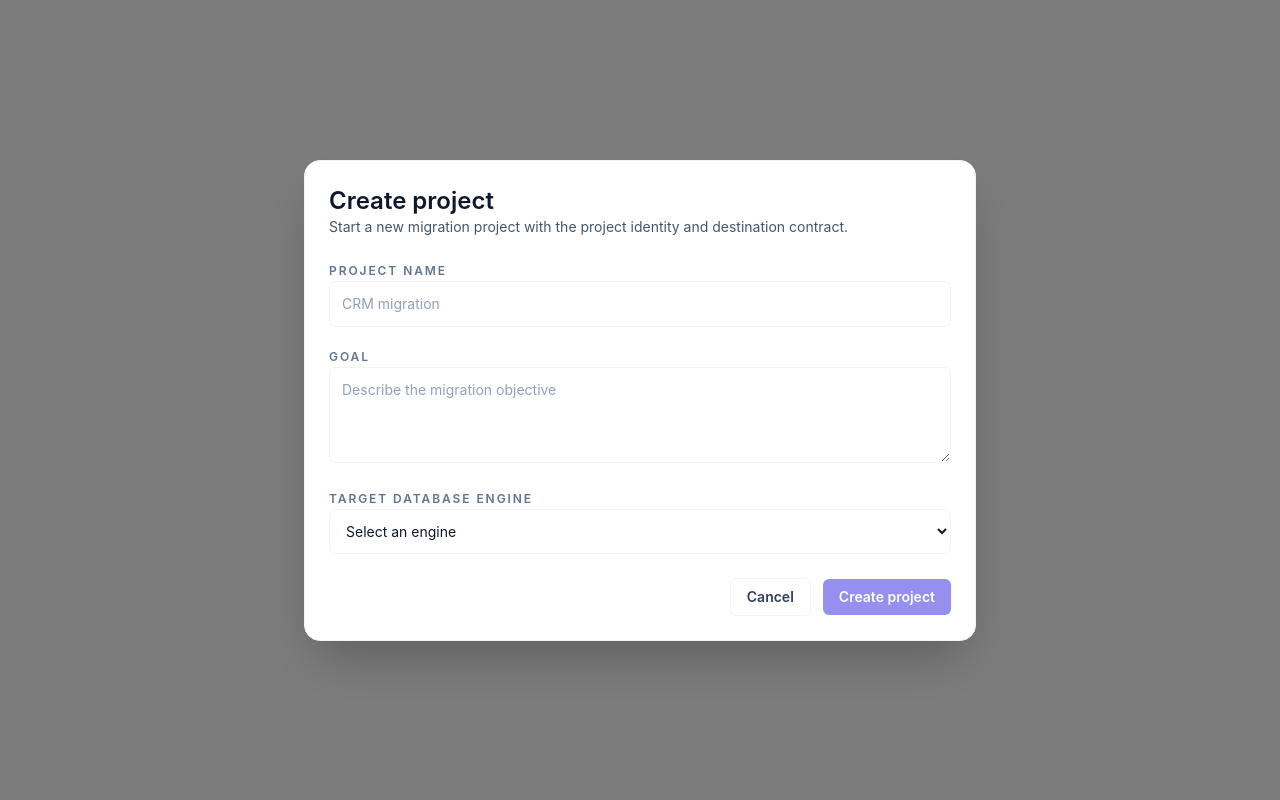
Test: CreateProjectDialog › renders API failures inline
Type "New Project" into the field labelled "Project name" at x=640, y=304, box [329,280,951,326]
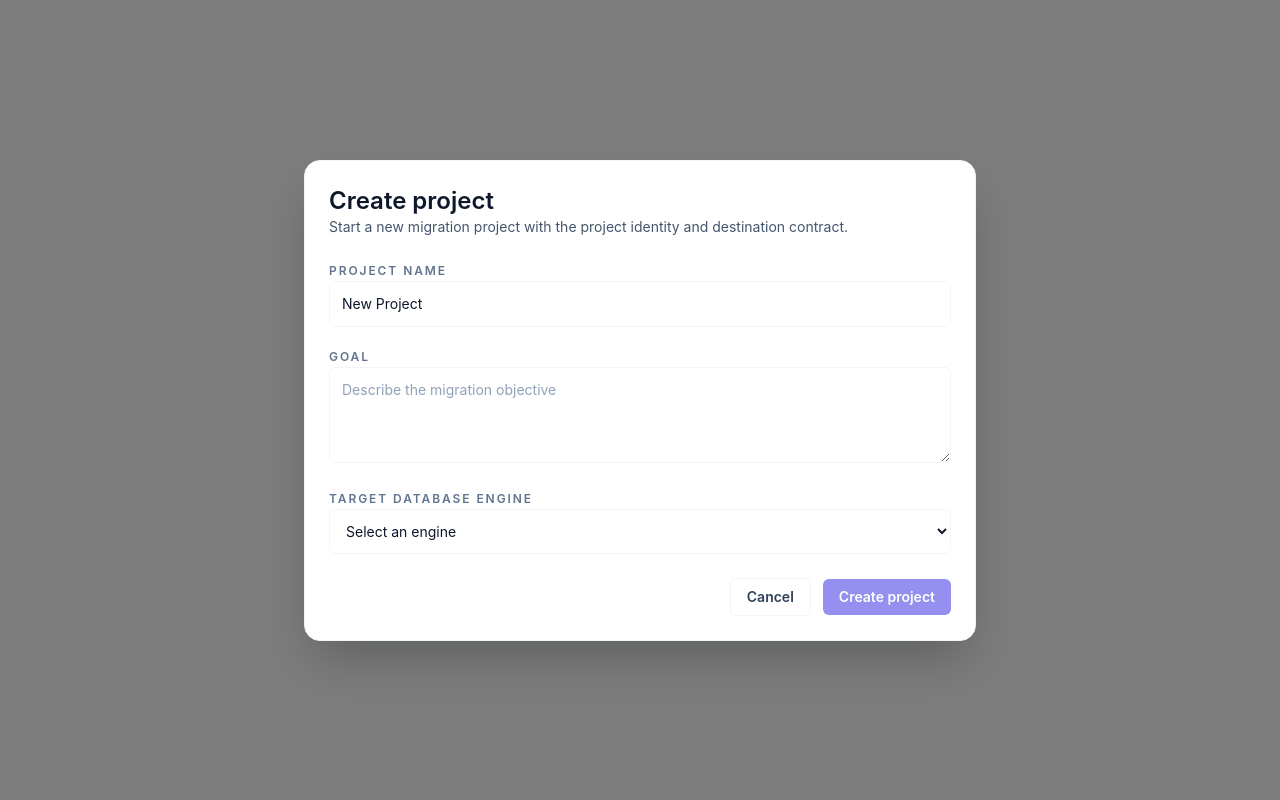
Select "mssql" in the dropdown labelled "Target database engine" at x=640, y=531, box [329,508,951,554]
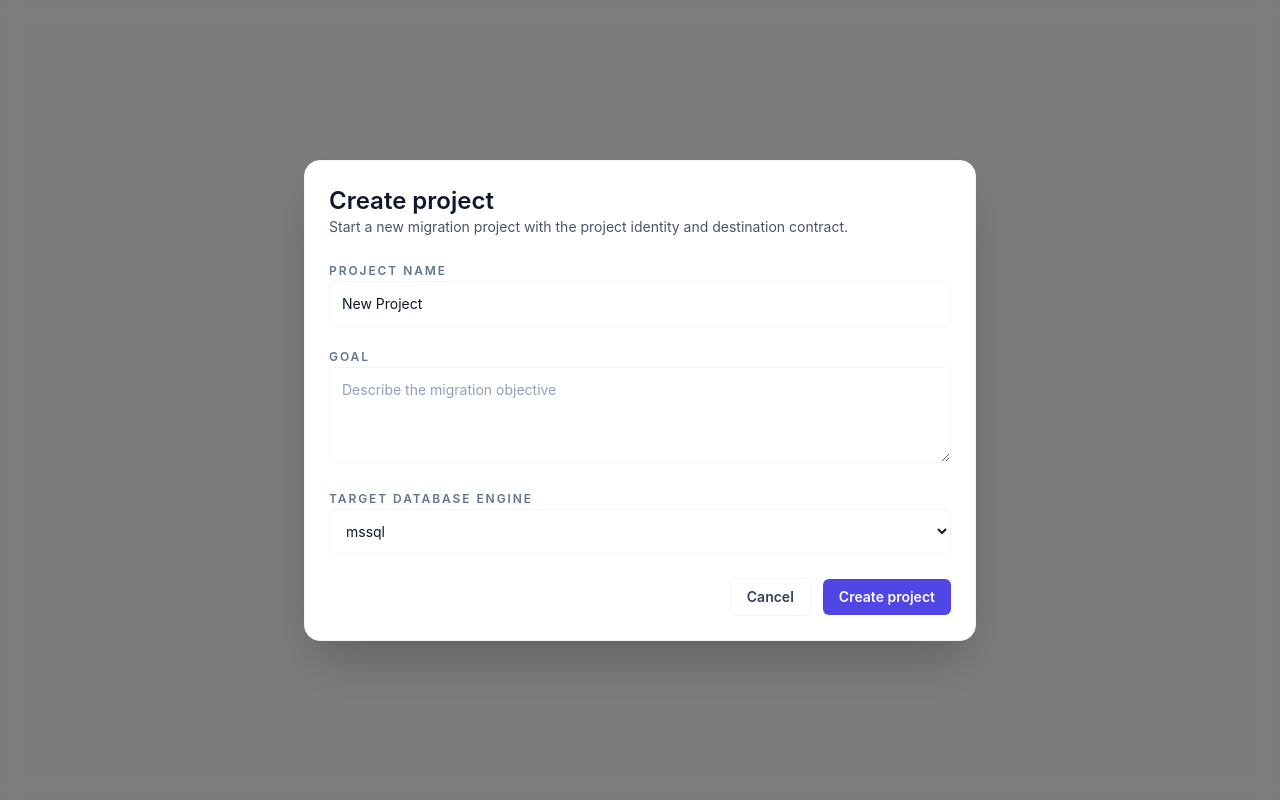
Click the button "Create project" at x=887, y=596, box [823,578,951,614]
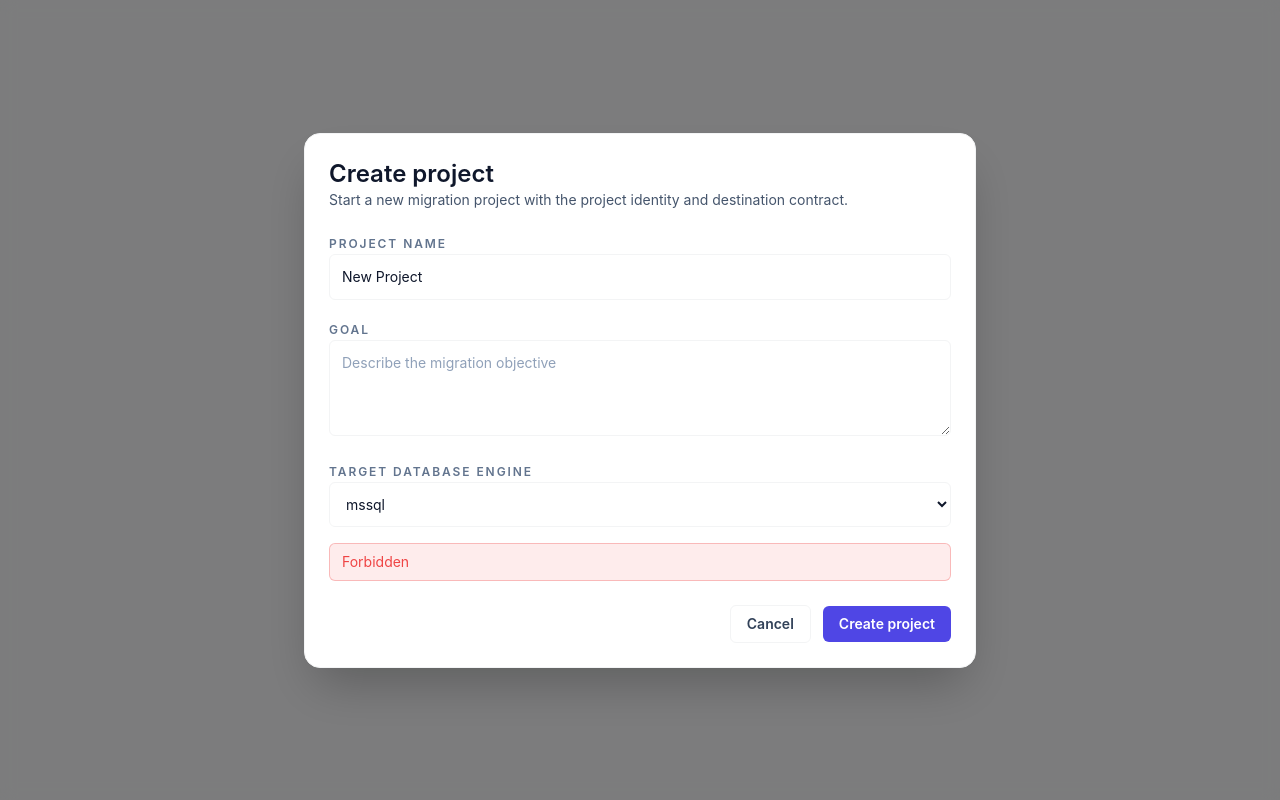
Check: the message "Forbidden" is shown, box [329,542,951,580]
